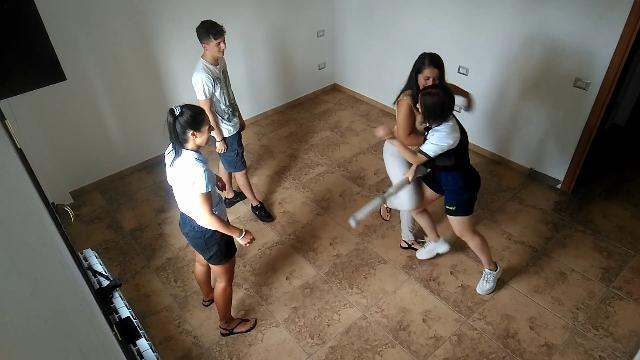non-violence: (160, 103, 260, 340), (189, 18, 277, 226)
violence: (346, 51, 504, 297)
